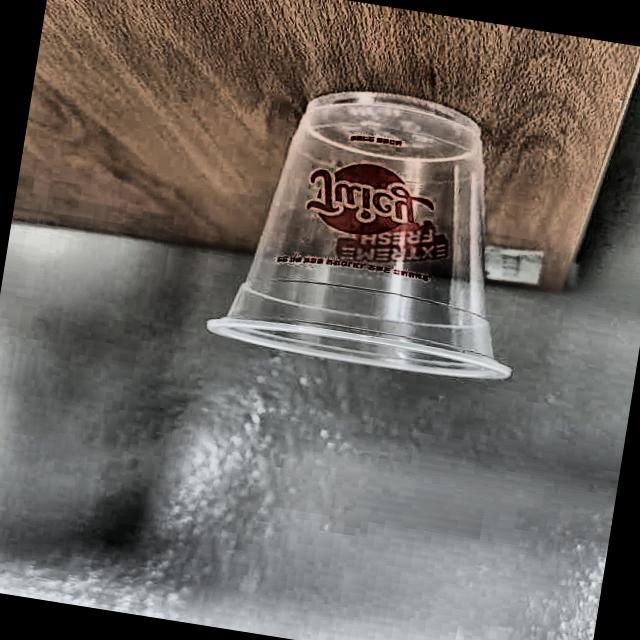plastic cup: (200, 72, 559, 390)
